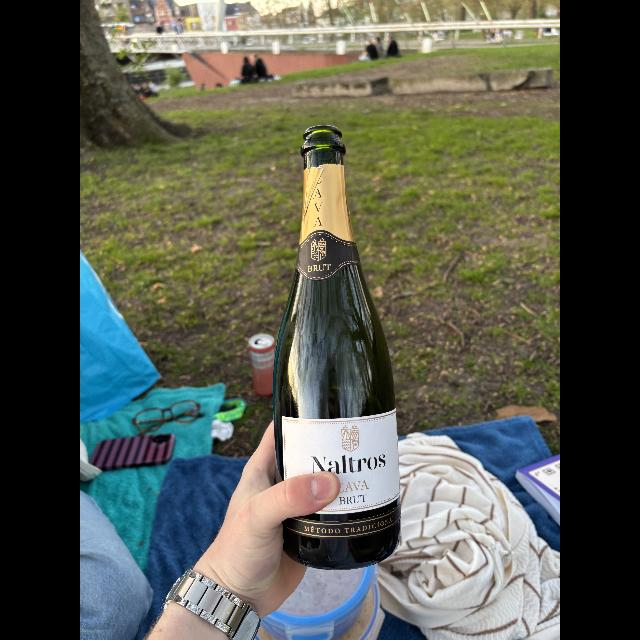Cardboard: (506, 442, 560, 526)
Glass: (274, 123, 401, 575)
Metal: (240, 330, 278, 398)
Plastic: (249, 553, 397, 640)
